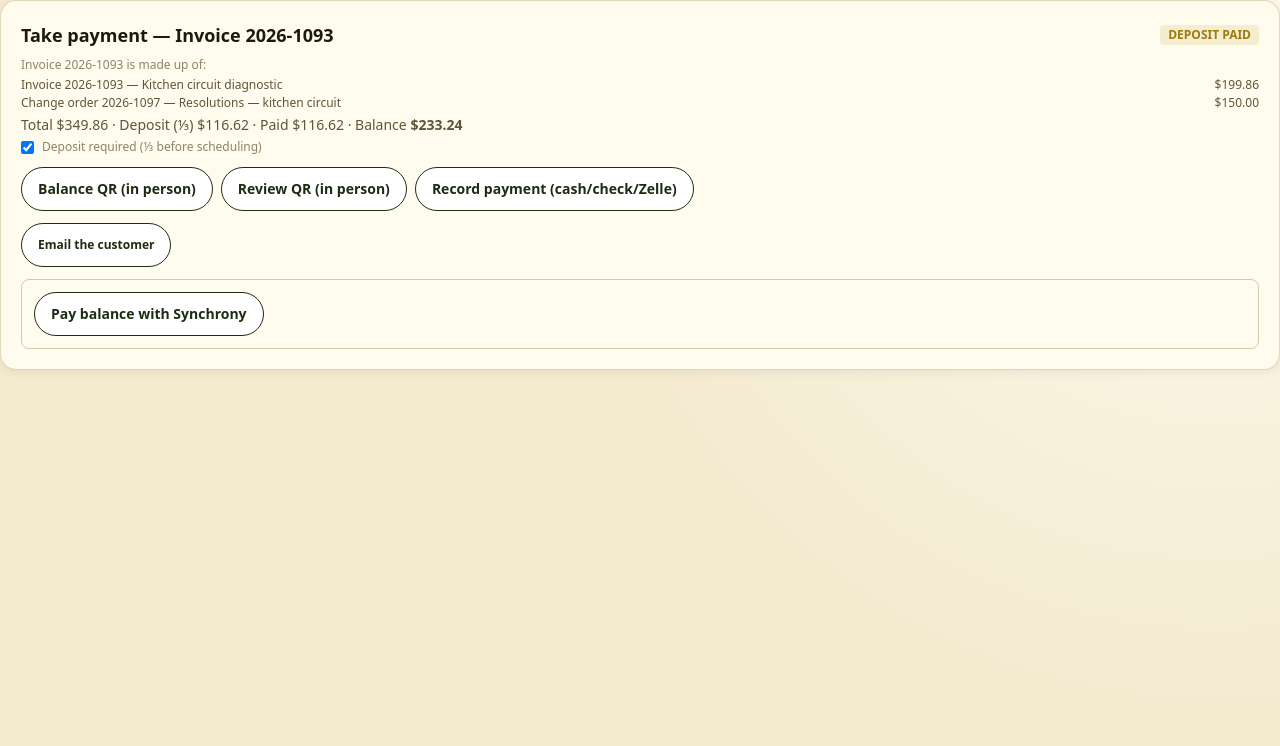
PaymentPanel › financing - a kind of the one panel (Kyle, 2026-10-01; one tool 2026-10-27) › shows when it was last sent, from the thread, before any click
What coordinates should you click on to do the following:
click the button "Email the customer"
I would click on:
 (96, 245)
Its box is [21, 223, 172, 267].
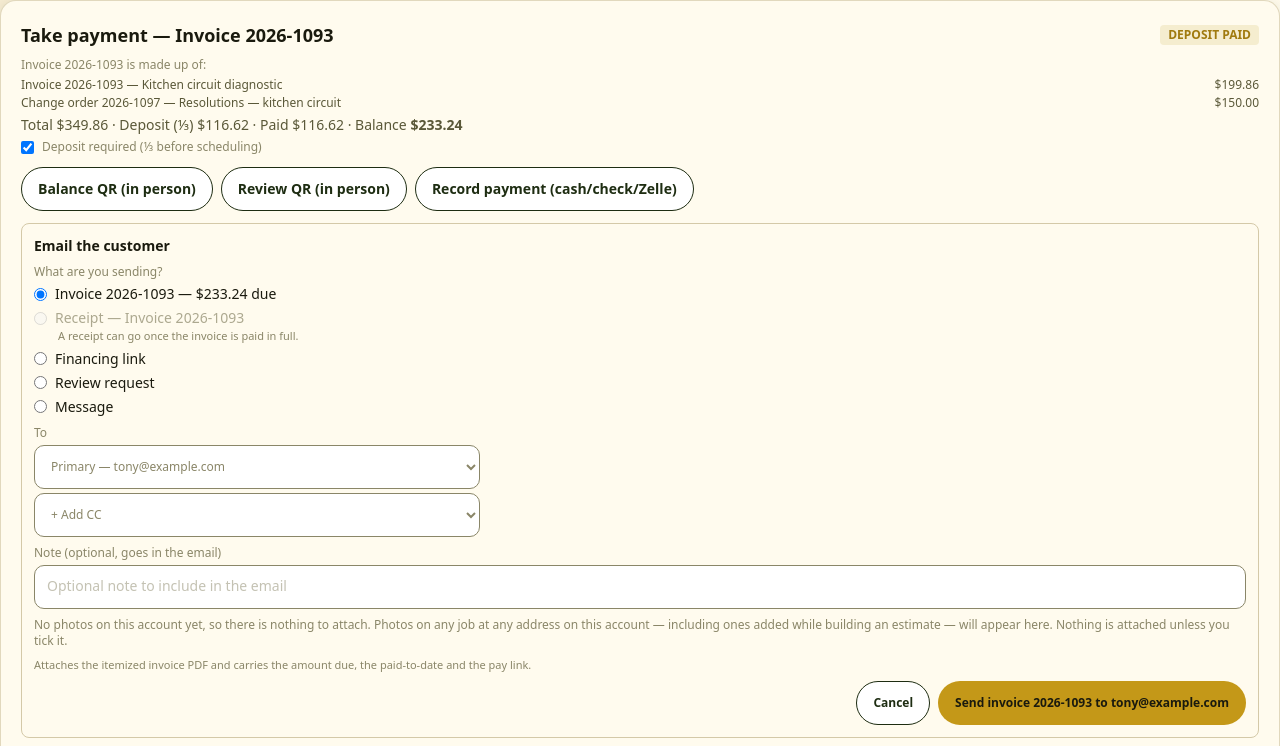
What coordinates should you click on to do the following:
click the radio button labelled "Financing link"
I would click on:
 (40, 358)
Its box is [34, 352, 47, 365].
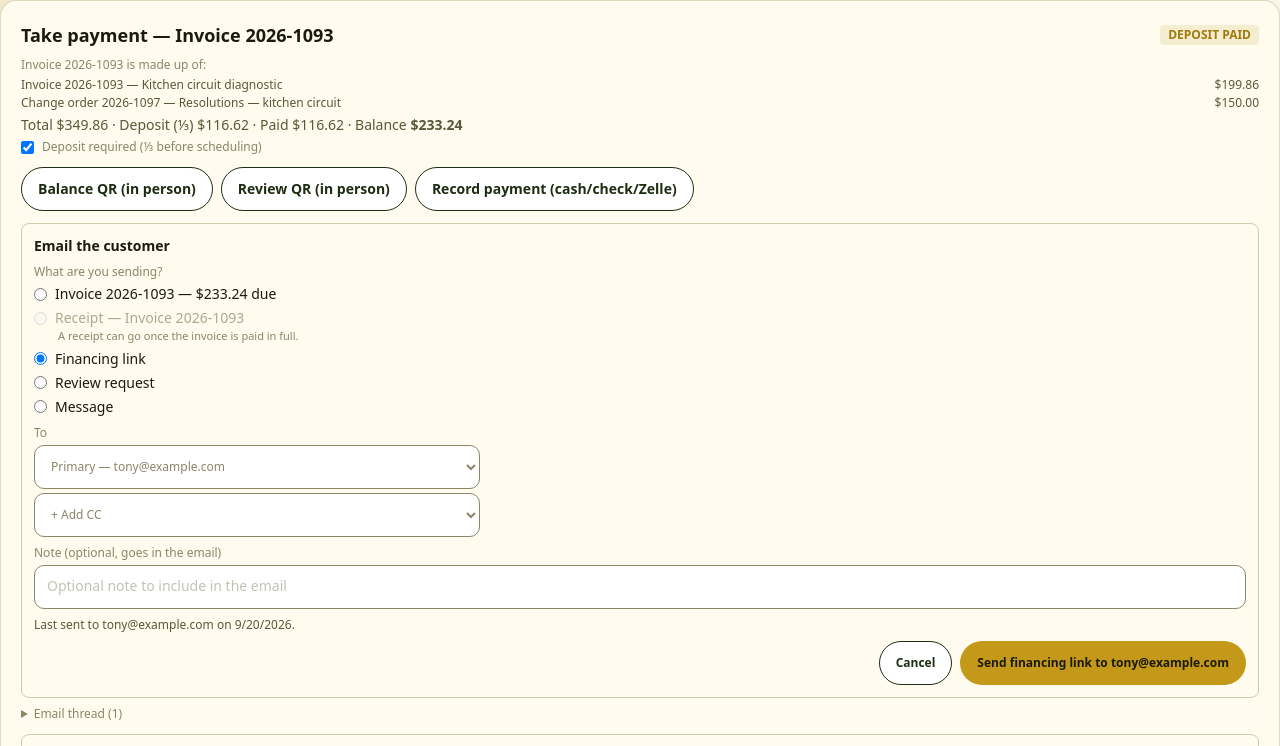
expect the text "Last sent to tony@example.com on 9/20/2026." is shown: met, box [34, 616, 295, 632]
